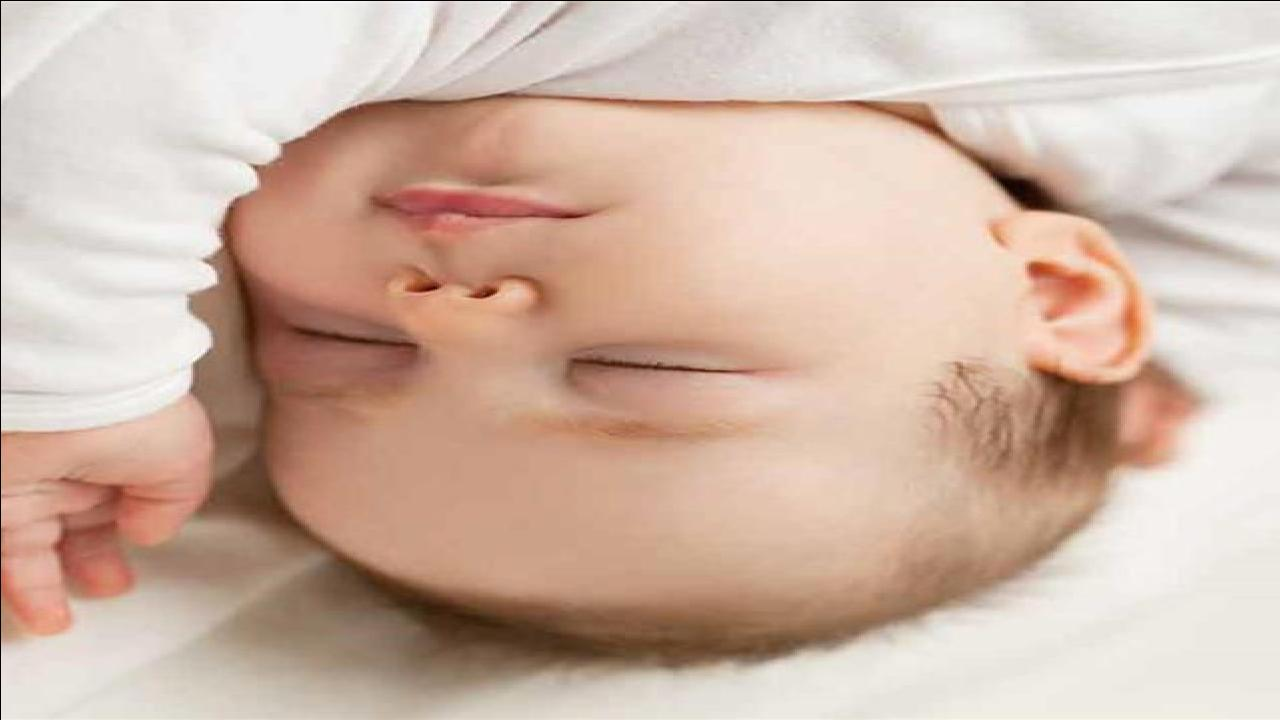hand: (0, 417, 230, 636)
